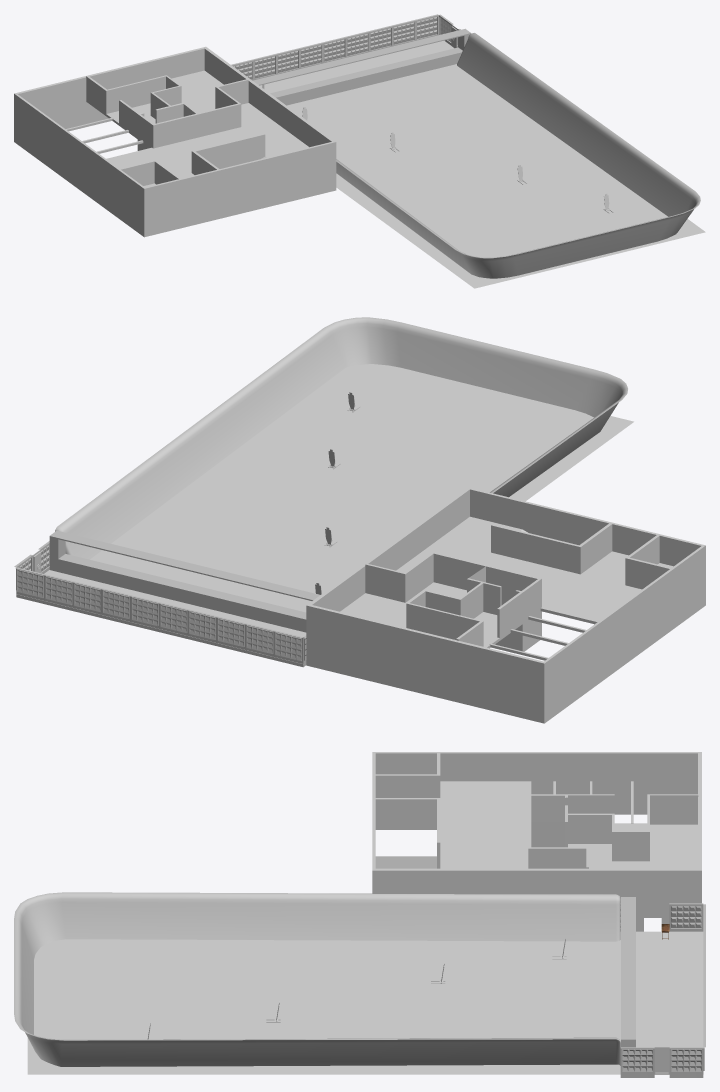
Rendered from Range.fbx.
3 renders of one model, top to bottom at view 1: azimuth 30°, elevation 25°; view 2: azimuth 150°, elevation 25°; view 3: azimuth 270°, elevation 25°, orthographic. The views are drawn at different scales.
Parts seen in each view (by area): view 1: Plane, Cube, sand, Cube.002, Cube.001, shoot_stand.001, Cube.005, wall.009, wall.007, wall.002, wall.004, wall.005 (+4 smaller); view 2: Plane, Cube, sand, Cube.001, Cube.002, shoot_stand.001, Cube.005, wall, wall.003, wall.007, wall.006, wall.009 (+7 smaller); view 3: Plane, sand, Cube, Cube.001, Cube.002, Cube.005, shoot_stand.001, wall.010, wall.013, wall.012, Cube.007.
Part boxes in pixels (bbox=[...]): Plane: bbox=[260, 40, 705, 288]; Cube: bbox=[14, 46, 336, 237]; sand: bbox=[335, 33, 700, 278]; Cube.002: bbox=[86, 75, 248, 148]; Cube.001: bbox=[86, 70, 308, 187]; shoot_stand.001: bbox=[253, 28, 471, 105]; Cube.005: bbox=[120, 133, 265, 185]; wall.009: bbox=[415, 14, 438, 40]; wall.007: bbox=[368, 25, 392, 51]; wall.002: bbox=[253, 54, 276, 80]; wall.004: bbox=[299, 42, 323, 68]; wall.005: bbox=[322, 37, 346, 63]; Plane: bbox=[17, 364, 633, 663]; Cube: bbox=[306, 487, 705, 723]; sand: bbox=[55, 317, 627, 559]; Cube.001: bbox=[340, 516, 673, 648]; Cube.002: bbox=[365, 552, 541, 646]; shoot_stand.001: bbox=[49, 530, 320, 632]; Cube.005: bbox=[491, 523, 670, 589]; wall: bbox=[273, 630, 303, 666]; wall.003: bbox=[187, 609, 217, 645]; wall.007: bbox=[73, 581, 102, 617]; wall.006: bbox=[101, 588, 130, 625]; wall.009: bbox=[15, 567, 44, 604]; Plane: bbox=[27, 931, 703, 1074]; sand: bbox=[14, 892, 620, 1066]; Cube: bbox=[372, 752, 701, 931]; Cube.001: bbox=[375, 781, 697, 868]; Cube.002: bbox=[528, 794, 698, 868]; Cube.005: bbox=[375, 753, 440, 868]; shoot_stand.001: bbox=[621, 897, 635, 1047]; wall.010: bbox=[669, 1047, 703, 1077]; wall.013: bbox=[620, 1047, 654, 1077]; wall.012: bbox=[669, 903, 703, 931]; Cube.007: bbox=[375, 856, 436, 868].
Bounding box in the file's own units: 4642 × 528 × 5118.
